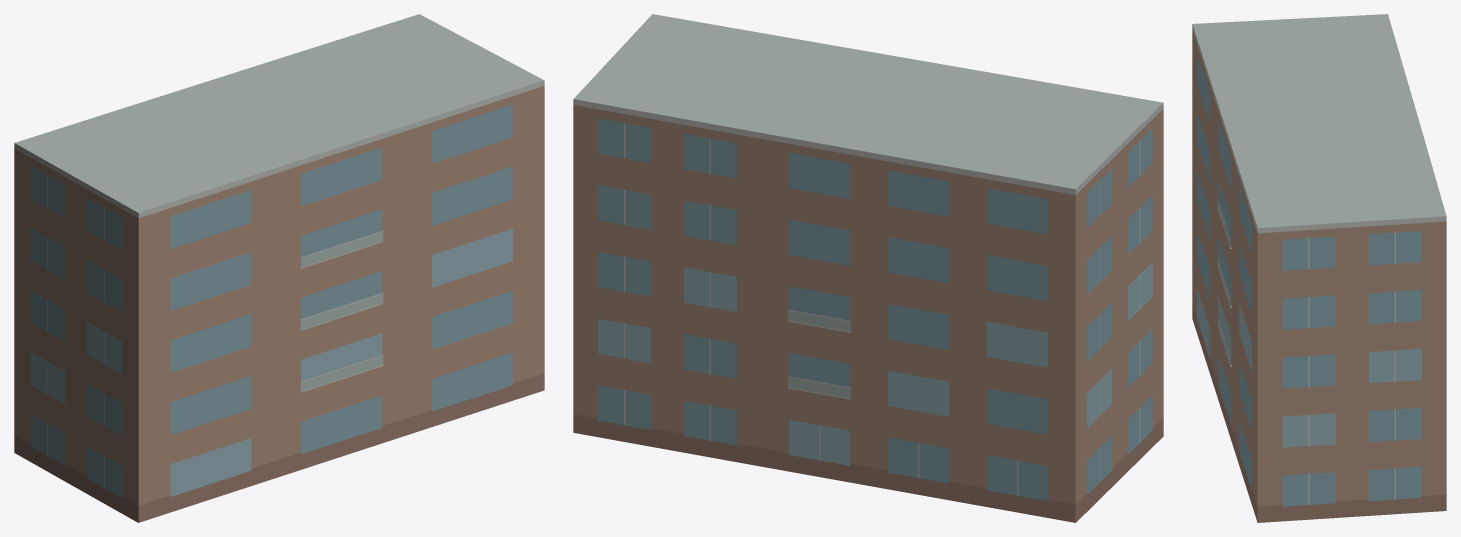
File: survey-upis-32531886.glb
3 views of the same model, side by side, from view 1: azimuth 30°, elevation 25°; view 2: azimuth 150°, elevation 25°; view 3: azimuth 270°, elevation 25° (orthographic). The views are drawn at different scales.
Parts seen in each view (by area): view 1: survey-upis-32531886.tmp; view 2: survey-upis-32531886.tmp; view 3: survey-upis-32531886.tmp.
Part boxes in pixels (x1,y1,x2,y2): survey-upis-32531886.tmp: [14, 14, 544, 522]; survey-upis-32531886.tmp: [573, 14, 1163, 522]; survey-upis-32531886.tmp: [1192, 14, 1446, 522].
Size of the model in its own units: 21.84 by 14 by 10.96.
